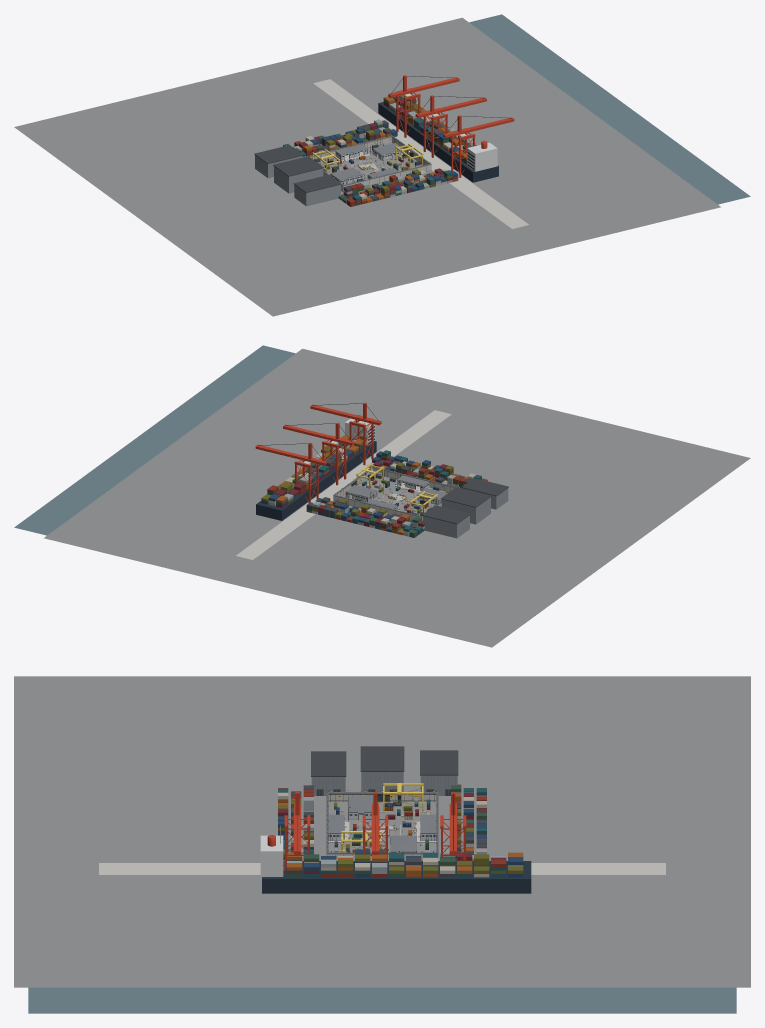
Rendered from port.glb.
The picture shows the model from 3 angles, top to bottom: view 1: azimuth 30°, elevation 25°; view 2: azimuth 150°, elevation 25°; view 3: azimuth 270°, elevation 25°; orthographic projection. The views are drawn at different scales.
Visible parts, largest first — view 1: port_asphalt, port_far, port_water, port_slab, port_wall, port_roof, port_steel; view 2: port_asphalt, port_far, port_water, port_slab, port_wall, port_roof, port_steel, port_paint; view 3: port_asphalt, port_far, port_water, port_slab, port_roof, port_paint, port_steel, port_wall, port_yellow.
Boxes of the visible parts, <box> form: port_asphalt: <box>14,17,720,316</box>; port_far: <box>254,75,514,206</box>; port_water: <box>469,14,750,204</box>; port_slab: <box>313,79,528,228</box>; port_wall: <box>310,137,431,191</box>; port_roof: <box>331,143,403,179</box>; port_steel: <box>304,135,431,191</box>; port_asphalt: <box>44,348,750,647</box>; port_far: <box>255,402,508,538</box>; port_water: <box>14,345,295,535</box>; port_slab: <box>236,410,451,559</box>; port_wall: <box>333,468,454,520</box>; port_roof: <box>345,475,447,508</box>; port_steel: <box>333,466,460,520</box>; port_paint: <box>355,472,448,515</box>; port_asphalt: <box>14,676,750,987</box>; port_far: <box>260,746,531,893</box>; port_water: <box>28,987,736,1013</box>; port_slab: <box>99,821,665,874</box>; port_roof: <box>328,796,436,851</box>; port_paint: <box>334,797,430,852</box>; port_steel: <box>326,791,438,855</box>; port_wall: <box>327,793,436,860</box>; port_yellow: <box>340,783,425,852</box>.
Bounding box in the file's own units: 560 × 65.77 × 520.
